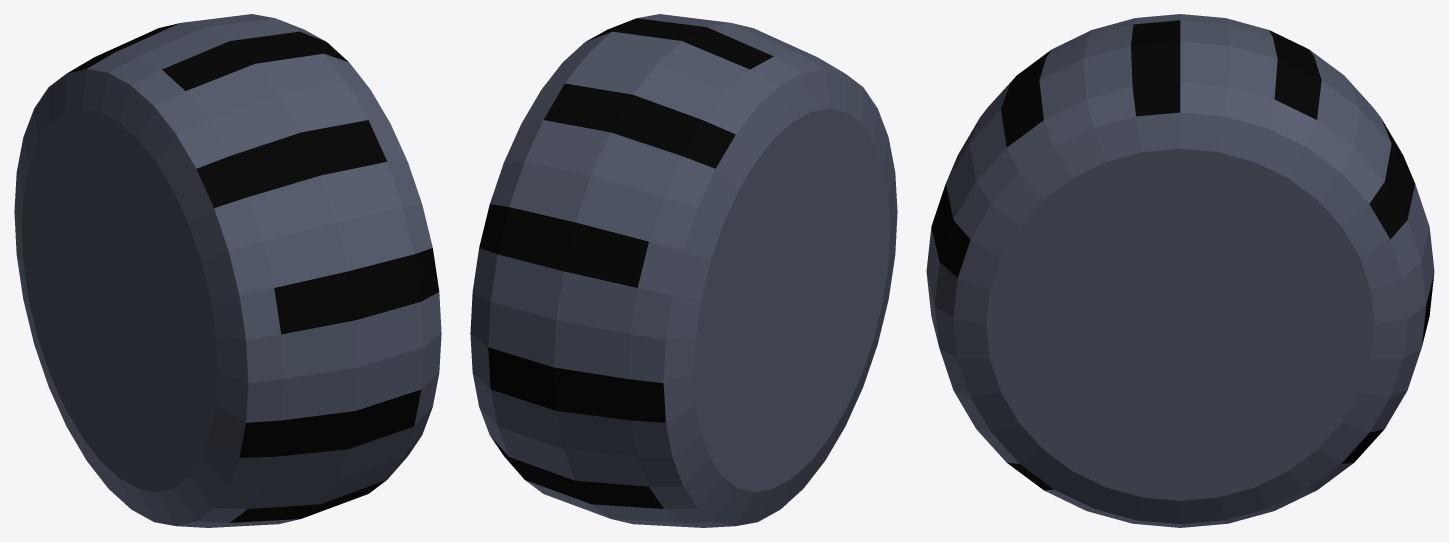
File: Wheel.fbx
3 renders of one model, left to right at view 1: azimuth 30°, elevation 25°; view 2: azimuth 150°, elevation 25°; view 3: azimuth 270°, elevation 25°, orthographic.
Parts seen in each view (by area): view 1: Wheel; view 2: Wheel; view 3: Wheel.
Part boxes in pixels (x1=…): Wheel: x1=14, y1=14, x2=441, y2=527; Wheel: x1=470, y1=14, x2=897, y2=527; Wheel: x1=926, y1=14, x2=1434, y2=527.
Size of the model in its own units: 16.44 by 33.13 by 33.13.
